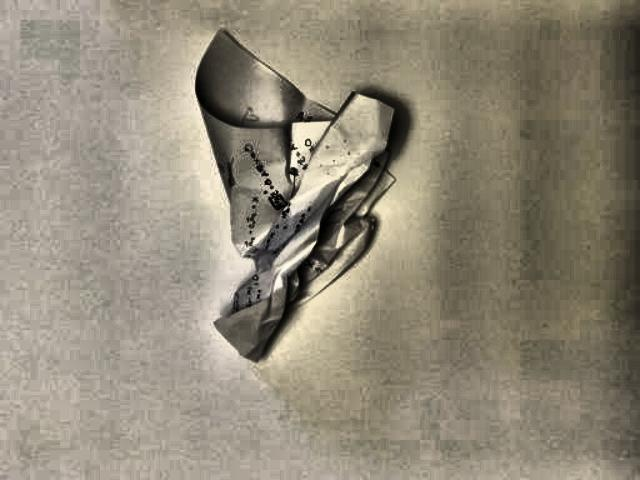Paper: (171, 26, 406, 371)
